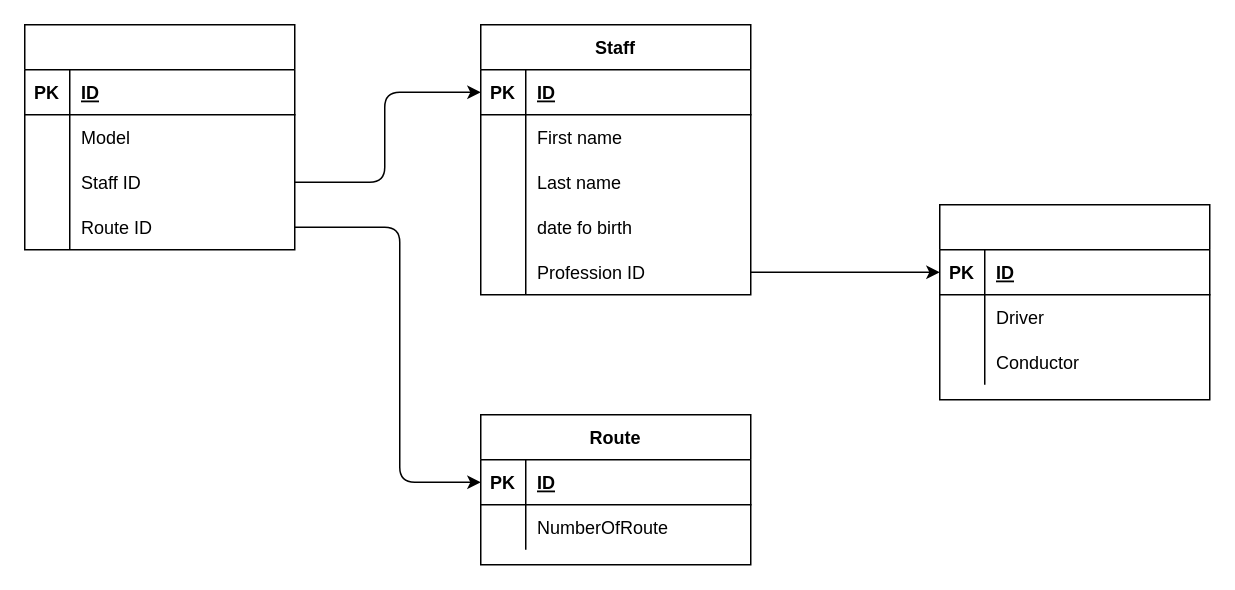
The diagram is 1235 pixels wide and 590 high, and some of its shapes have lost their labels. The shapes that lost their labels are listed below. From the top down, each one's box as (x1, y1, x2, y2) in pixels, then its label:
(23, 23, 295, 250): Bus
(938, 203, 1210, 400): Profession
